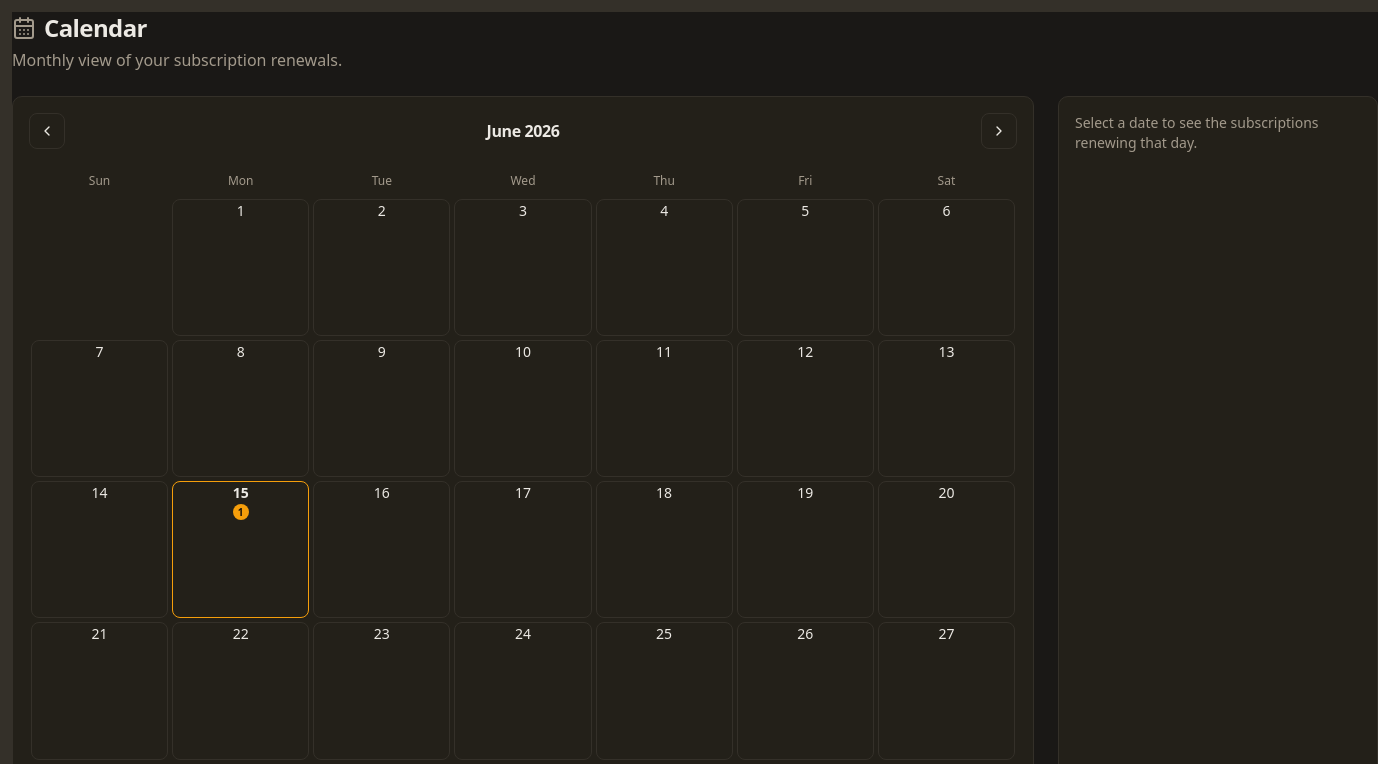
Test: urgency text with a pinned mid-month clock (Req 10, Story 6.2) › a renewal on today reads 'due today' in the cell and 'Renewing today' in the panel
The width and height of the screenshot is (1378, 764).
Click the button "15 1" at x=241, y=550, box [172,481,309,618]
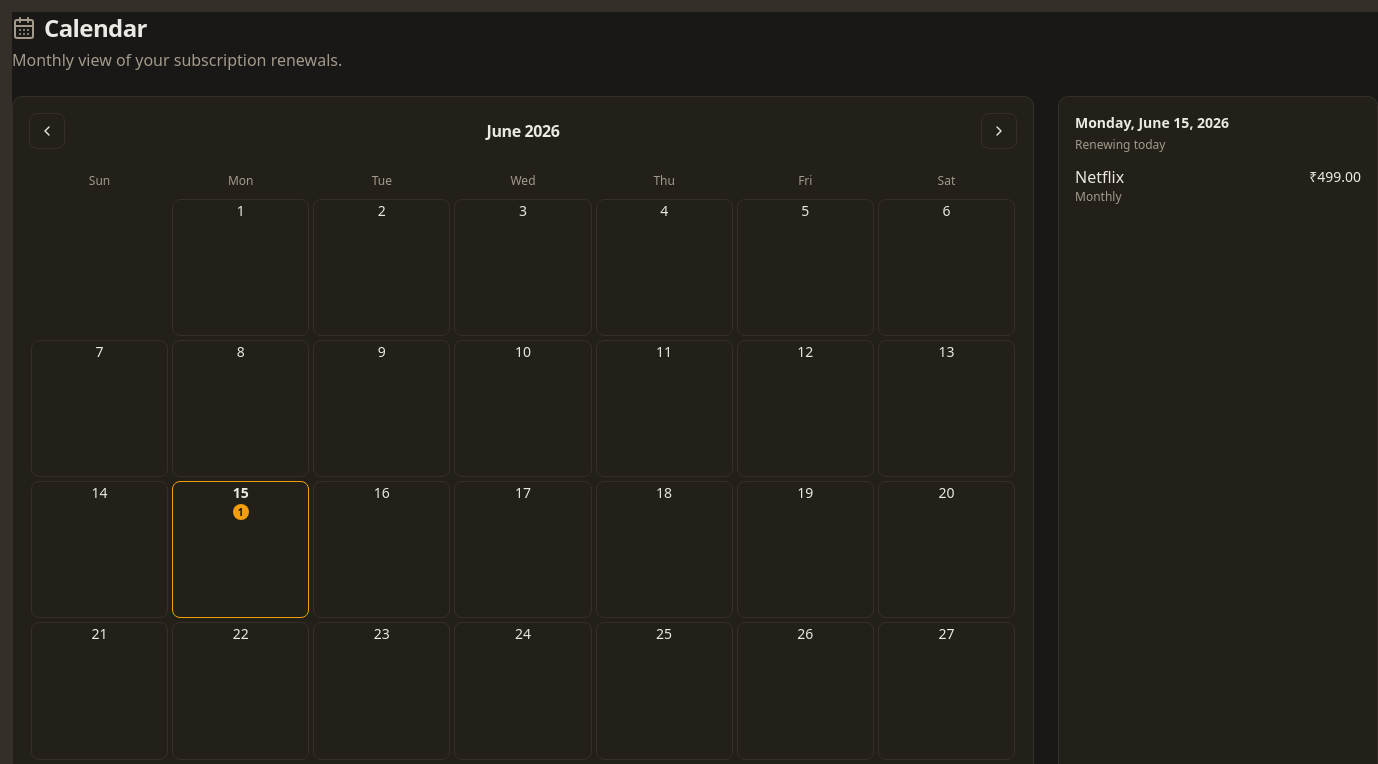
Now the text "Netflix" is shown, box [1075,165,1124,189]
Now the text "Renewing today" is shown, box [1075,136,1166,153]
